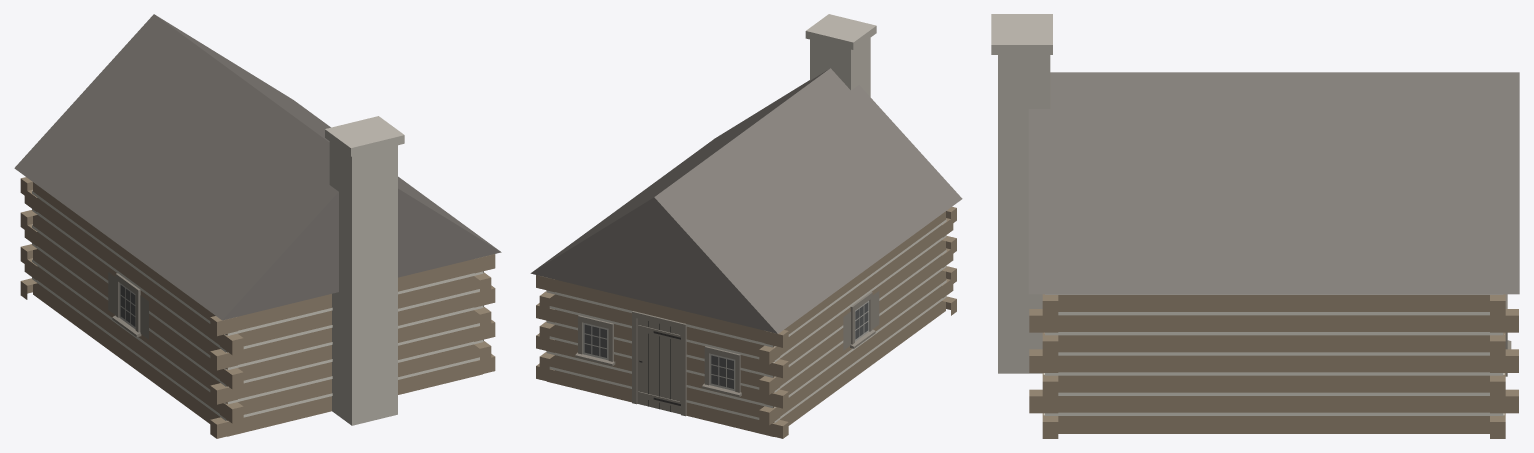
File: recon_1835_north_d1_001__inferred_1835.glb
3 renders of one model, left to right at view 1: azimuth 30°, elevation 25°; view 2: azimuth 150°, elevation 25°; view 3: azimuth 270°, elevation 25°, orthographic. The views are drawn at different scales.
Visible parts, largest first — view 1: recon_1835_north_d1_001__inferred_1835; view 2: recon_1835_north_d1_001__inferred_1835; view 3: recon_1835_north_d1_001__inferred_1835.
Part boxes in pixels (x1,y1,x2,y2): recon_1835_north_d1_001__inferred_1835: (14, 14, 501, 438); recon_1835_north_d1_001__inferred_1835: (530, 14, 962, 438); recon_1835_north_d1_001__inferred_1835: (991, 14, 1519, 438).
Bounding box in the file's own units: 5.81 × 5.58 × 8.07.
